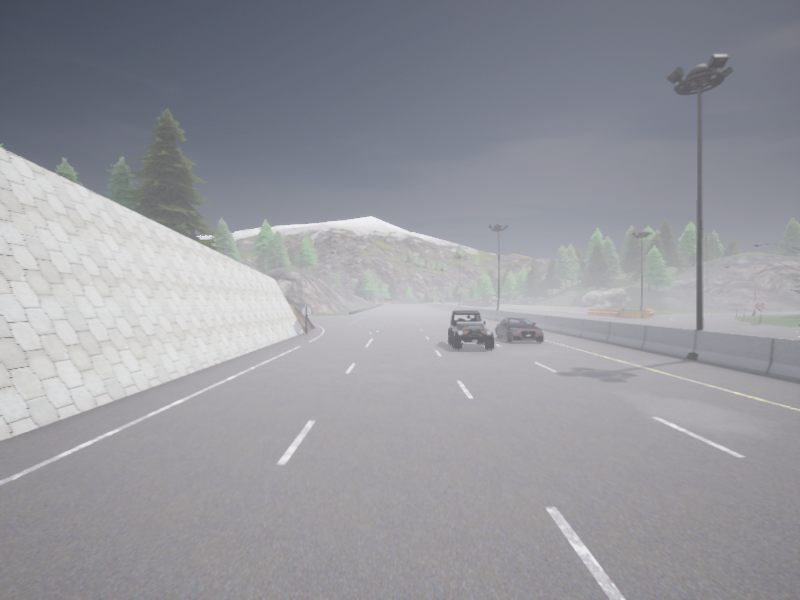vehicle: (447, 310, 494, 350), (495, 318, 543, 342), (442, 302, 445, 304)
